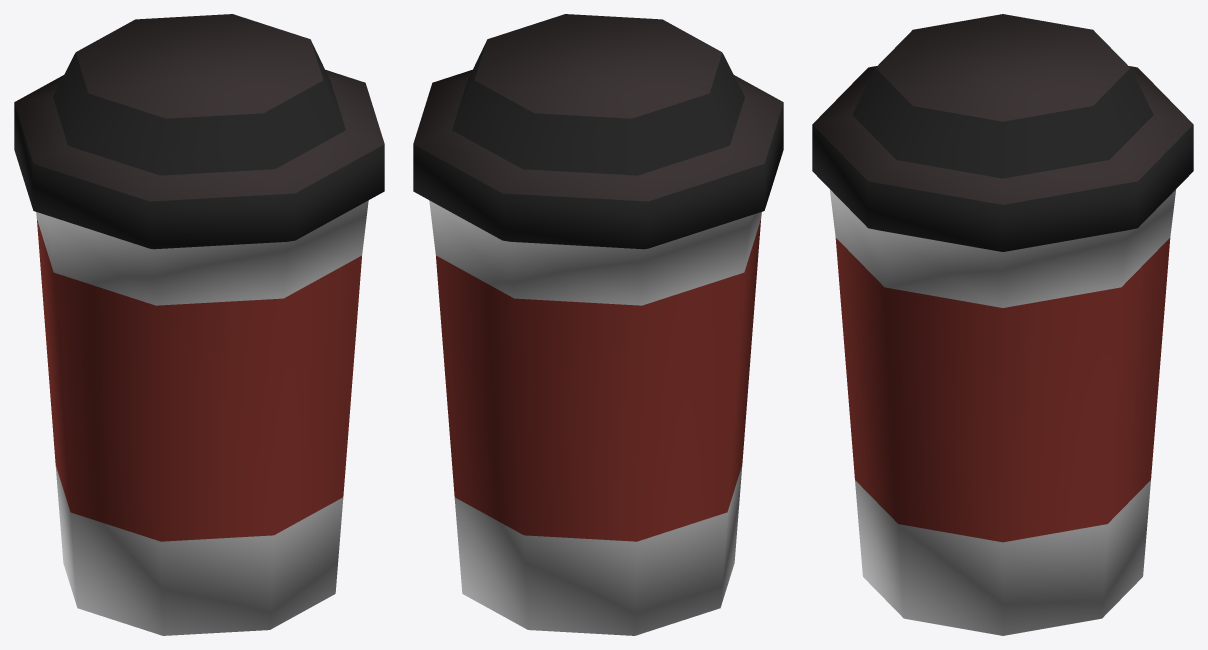
The model's file is Goods_06.fbx.
The picture shows the model from 3 angles, left to right: view 1: azimuth 30°, elevation 25°; view 2: azimuth 150°, elevation 25°; view 3: azimuth 270°, elevation 25°; orthographic projection.
Visible parts, largest first — view 1: 06_goods_item; view 2: 06_goods_item; view 3: 06_goods_item.
Boxes of the visible parts, x1,y1,x2,y2 form: 06_goods_item: (14, 14, 384, 635); 06_goods_item: (413, 14, 783, 635); 06_goods_item: (812, 14, 1193, 635).
Bounding box in the file's own units: 33.92 × 49.97 × 33.92.
1 material, 1 textured.
